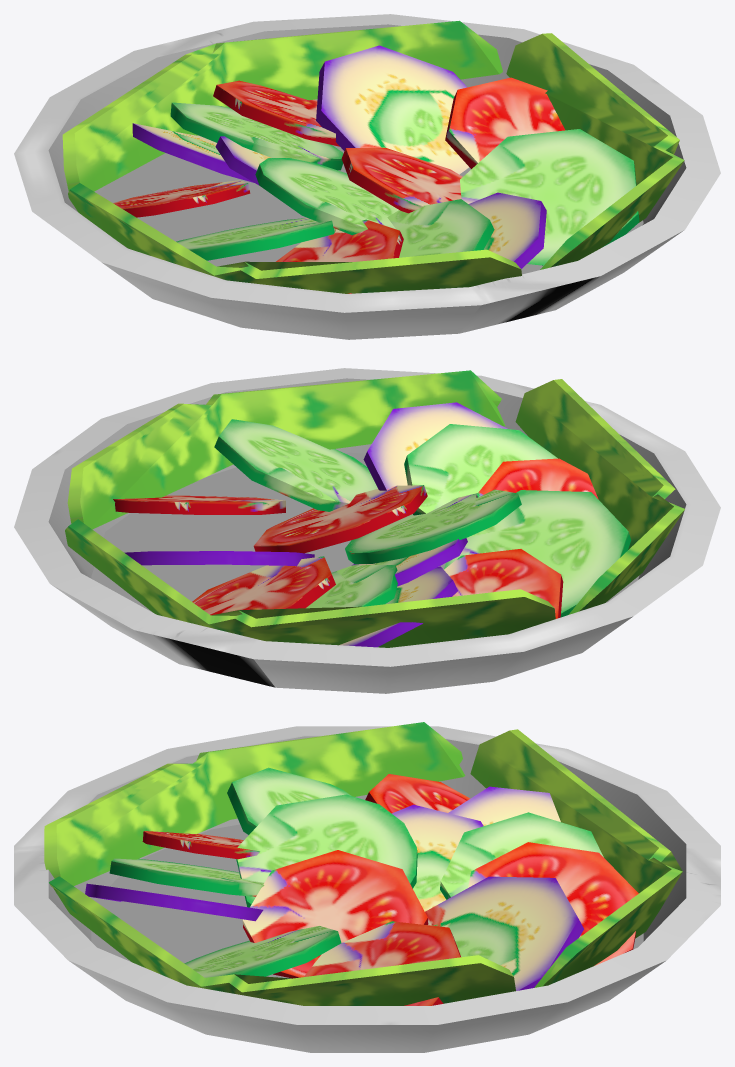
File: ratatyi low.fbx
3 renders of one model, top to bottom at view 1: azimuth 30°, elevation 25°; view 2: azimuth 150°, elevation 25°; view 3: azimuth 270°, elevation 25°, orthographic.
Parts seen in each view (by area): view 1: Circle.010, Circle.007, Circle.008; view 2: Circle.010, Circle.007, Circle.008; view 3: Circle.010, Circle.007, Circle.008.
Part boxes in pixels (left/top/right/bottom): Circle.010: left=113, top=45, right=639, bottom=293; Circle.007: left=14, top=14, right=720, bottom=339; Circle.008: left=62, top=20, right=684, bottom=293; Circle.010: left=113, top=402, right=631, bottom=647; Circle.007: left=14, top=368, right=720, bottom=693; Circle.008: left=65, top=370, right=684, bottom=647; Circle.010: left=85, top=767, right=638, bottom=1005; Circle.007: left=14, top=726, right=720, bottom=1052; Circle.008: left=44, top=722, right=682, bottom=1005.
Bounding box in the file's own units: 4.8 × 0.8161 × 4.8.
